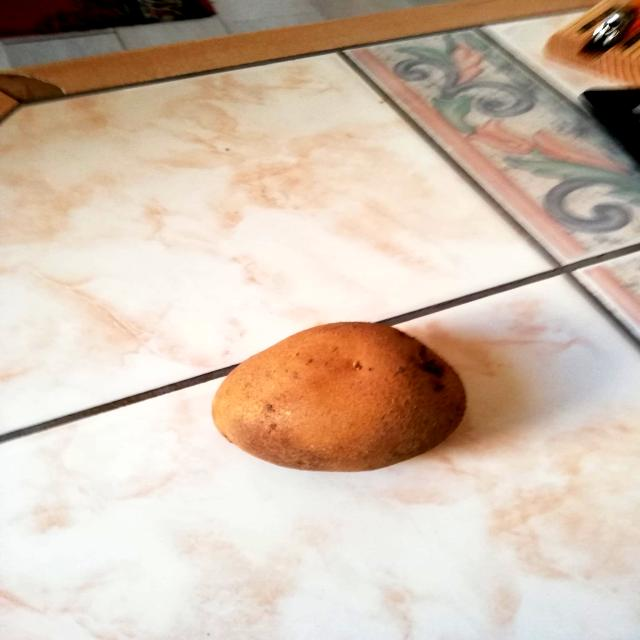potato: (206, 312, 475, 477)
